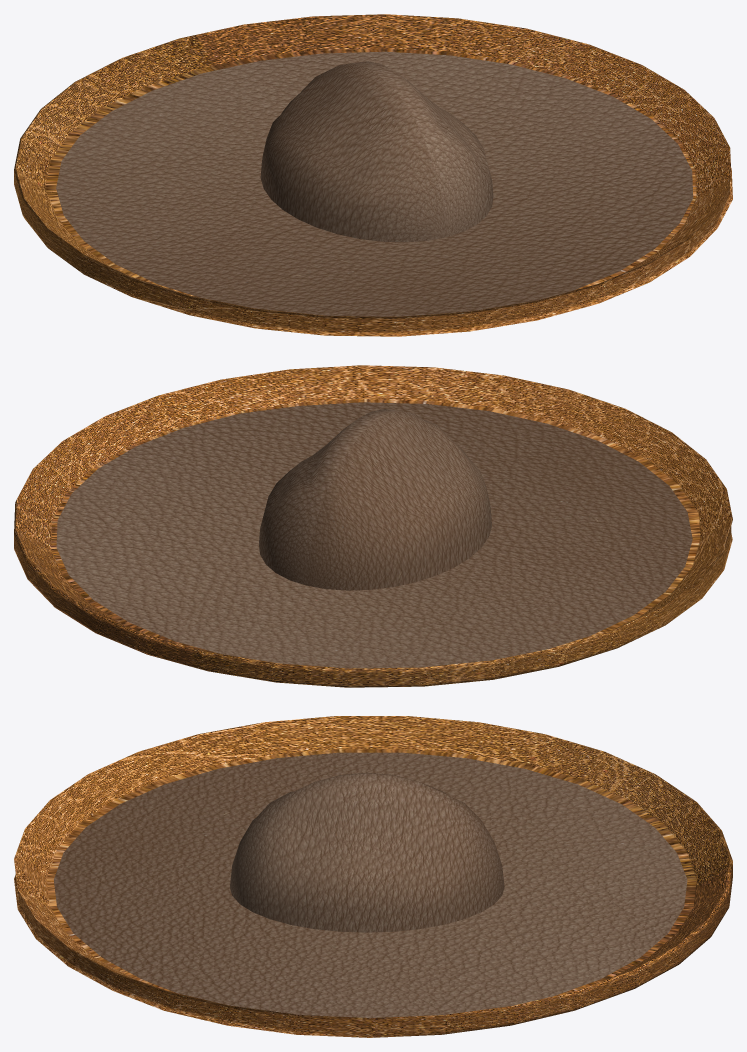
Rendered from sombrero.fbx.
3 renders of one model, top to bottom at view 1: azimuth 30°, elevation 25°; view 2: azimuth 150°, elevation 25°; view 3: azimuth 270°, elevation 25°, orthographic.
Visible parts, largest first — view 1: Cylinder002, orilla, Sphere001; view 2: Cylinder002, orilla, Sphere001; view 3: Cylinder002, orilla, Sphere001.
Part boxes in pixels (x1,y1,x2,y2): Cylinder002: [56, 51, 693, 316]; orilla: [14, 14, 732, 336]; Sphere001: [260, 61, 493, 242]; Cylinder002: [56, 402, 692, 668]; orilla: [14, 365, 732, 687]; Sphere001: [259, 409, 491, 590]; Cylinder002: [54, 752, 687, 1017]; orilla: [14, 716, 732, 1037]; Sphere001: [230, 772, 504, 932].
Size of the model in its own units: 38.48 by 6.98 by 38.71.
2 materials, 2 textured.
